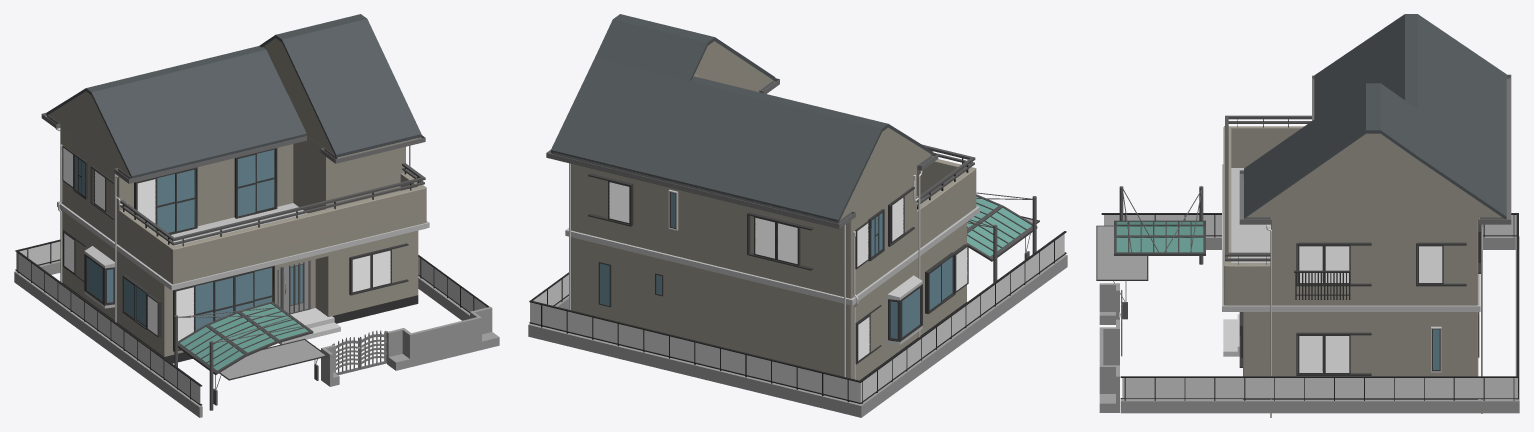
File: house_006_high.fbx
3 renders of one model, left to right at view 1: azimuth 30°, elevation 25°; view 2: azimuth 150°, elevation 25°; view 3: azimuth 270°, elevation 25°, orthographic. The views are drawn at different scales.
Parts seen in each view (by area): view 1: pCube222; view 2: pCube222; view 3: pCube222.
Boxes of the visible parts, x1,y1,x2,y2 form: pCube222: (14, 14, 499, 417); pCube222: (528, 14, 1067, 417); pCube222: (1096, 14, 1519, 417).
Bounding box in the file's own units: 13.45 × 10.92 × 14.6.
